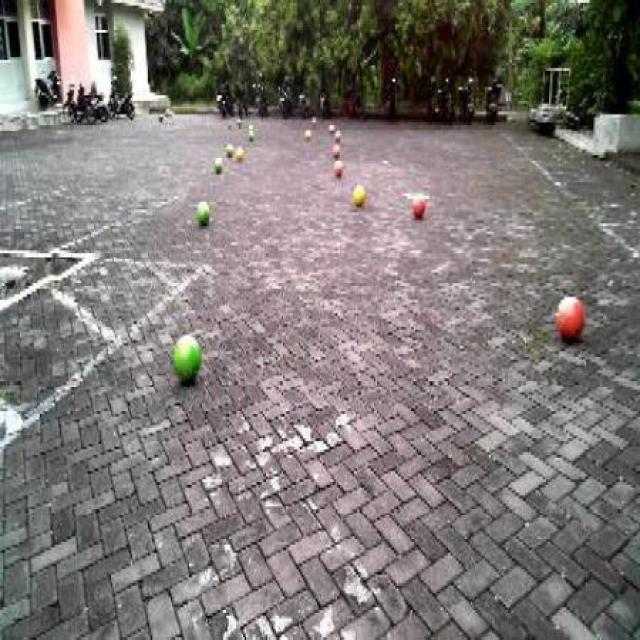buoy: (552, 285, 586, 344), (170, 326, 203, 385), (410, 186, 426, 219), (196, 196, 211, 226), (351, 182, 366, 208)
